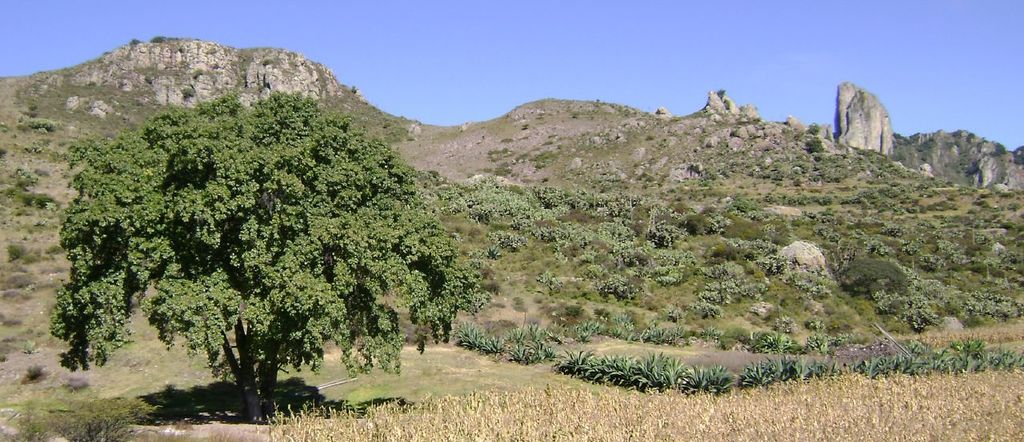Tree: (51, 73, 454, 390)
